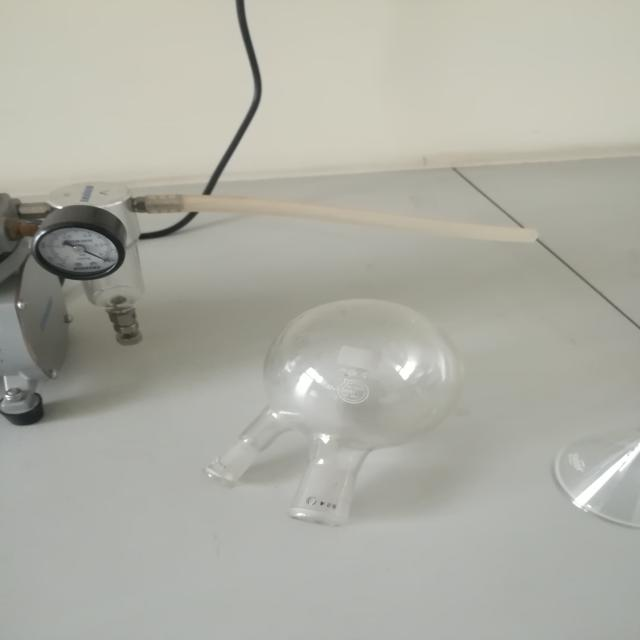Round_Bottom_Flask_Borosilicate_Glass_2_Neck: (172, 247, 488, 571)
